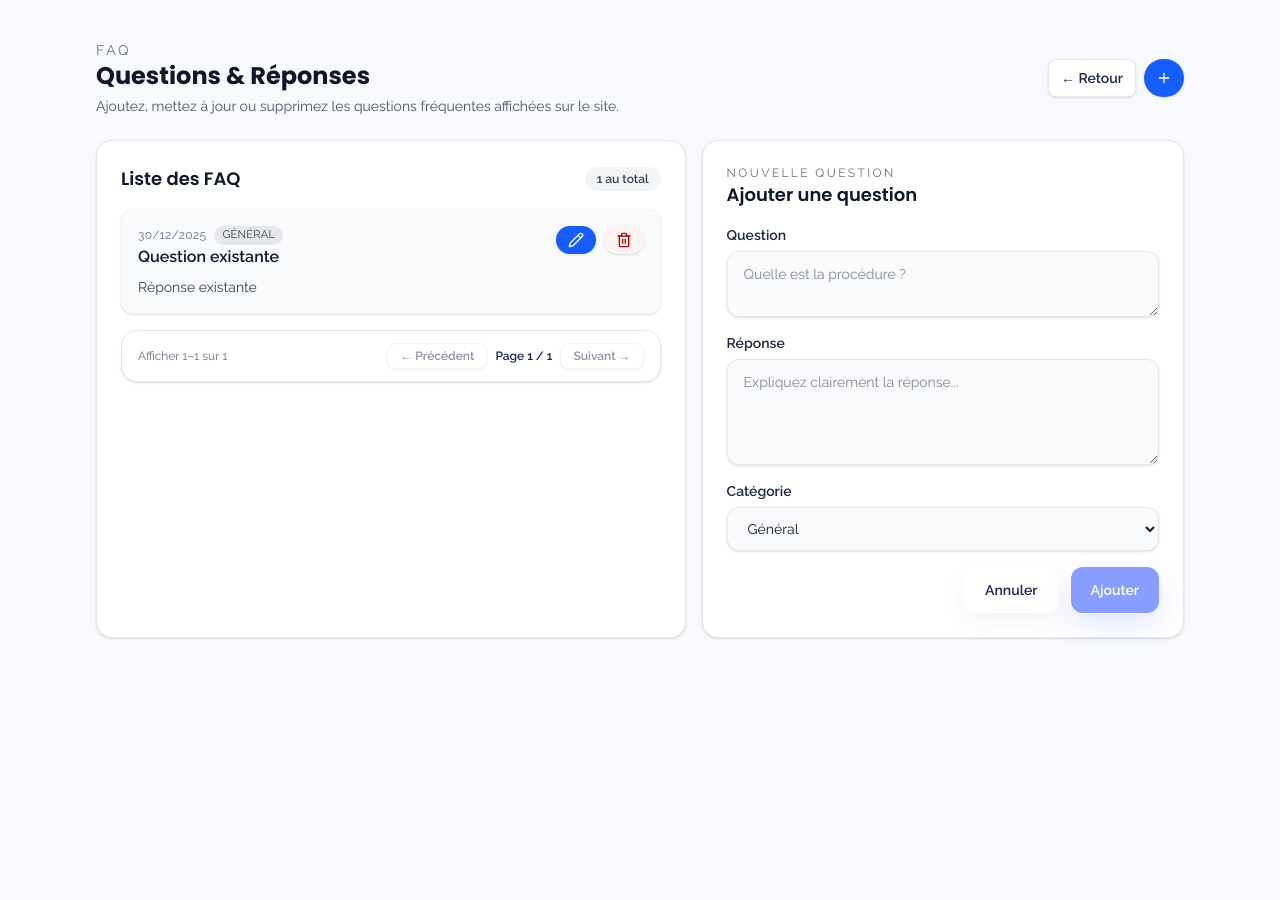
it: Dashboard FAQ client › préfille une FAQ, met à jour et gère la suppression avec confirmation
Click the button named "Modifier" at (576, 240), box [556,226,596,254]
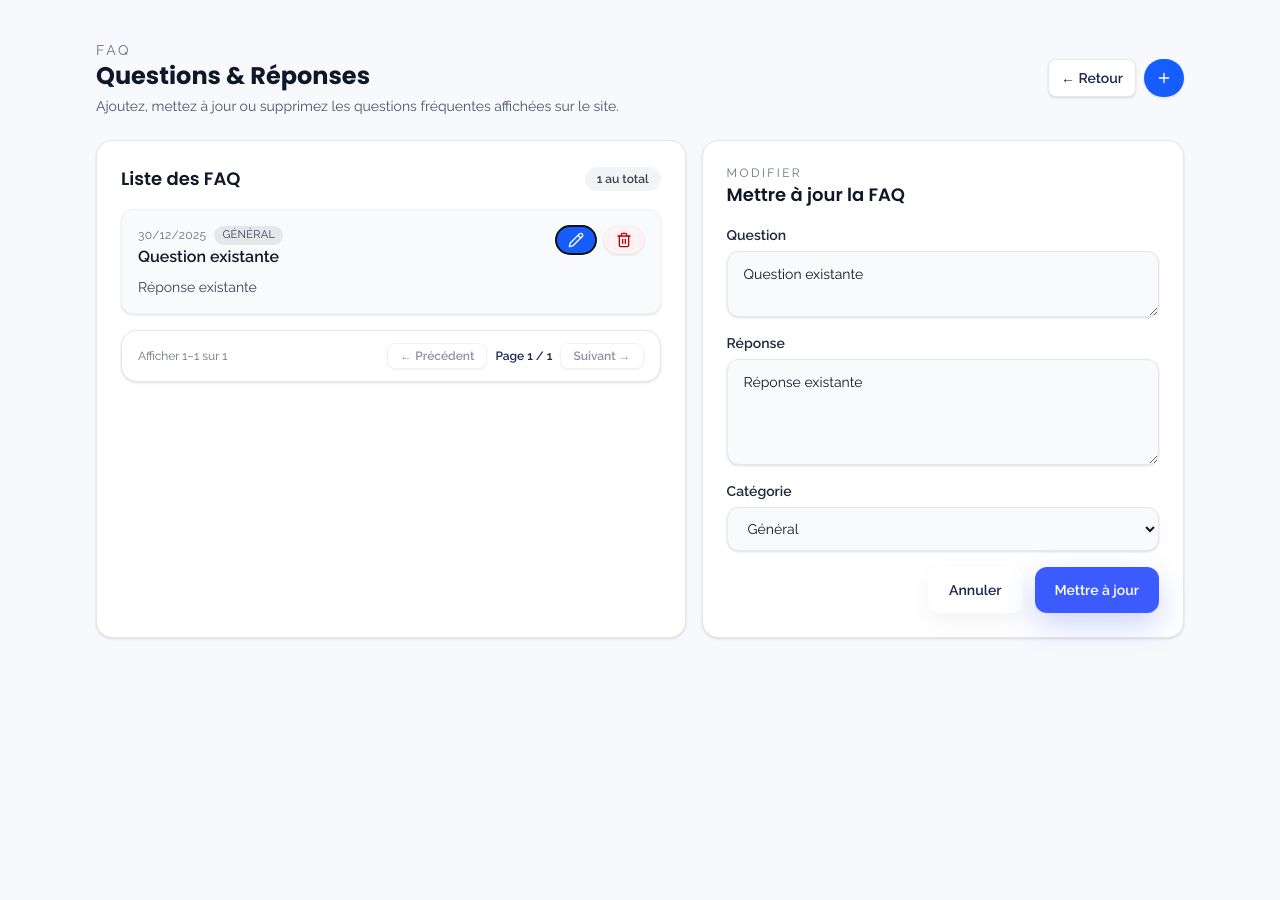
Expected: the button "Mettre à jour" is enabled
Click the button "Mettre à jour" at (1097, 590), box [1034,567,1159,613]
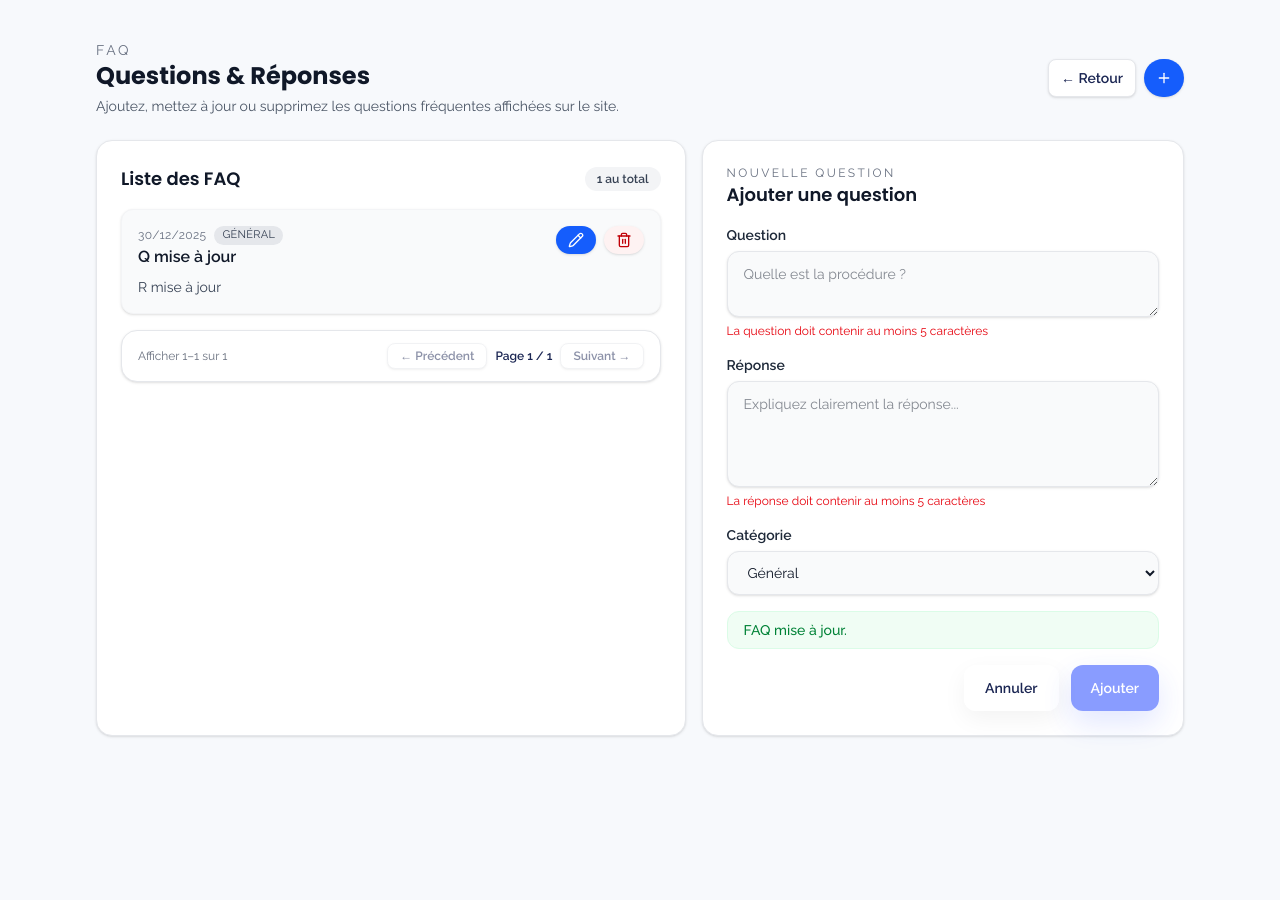
Click the button named "Supprimer" at (624, 240), box [604,226,644,254]
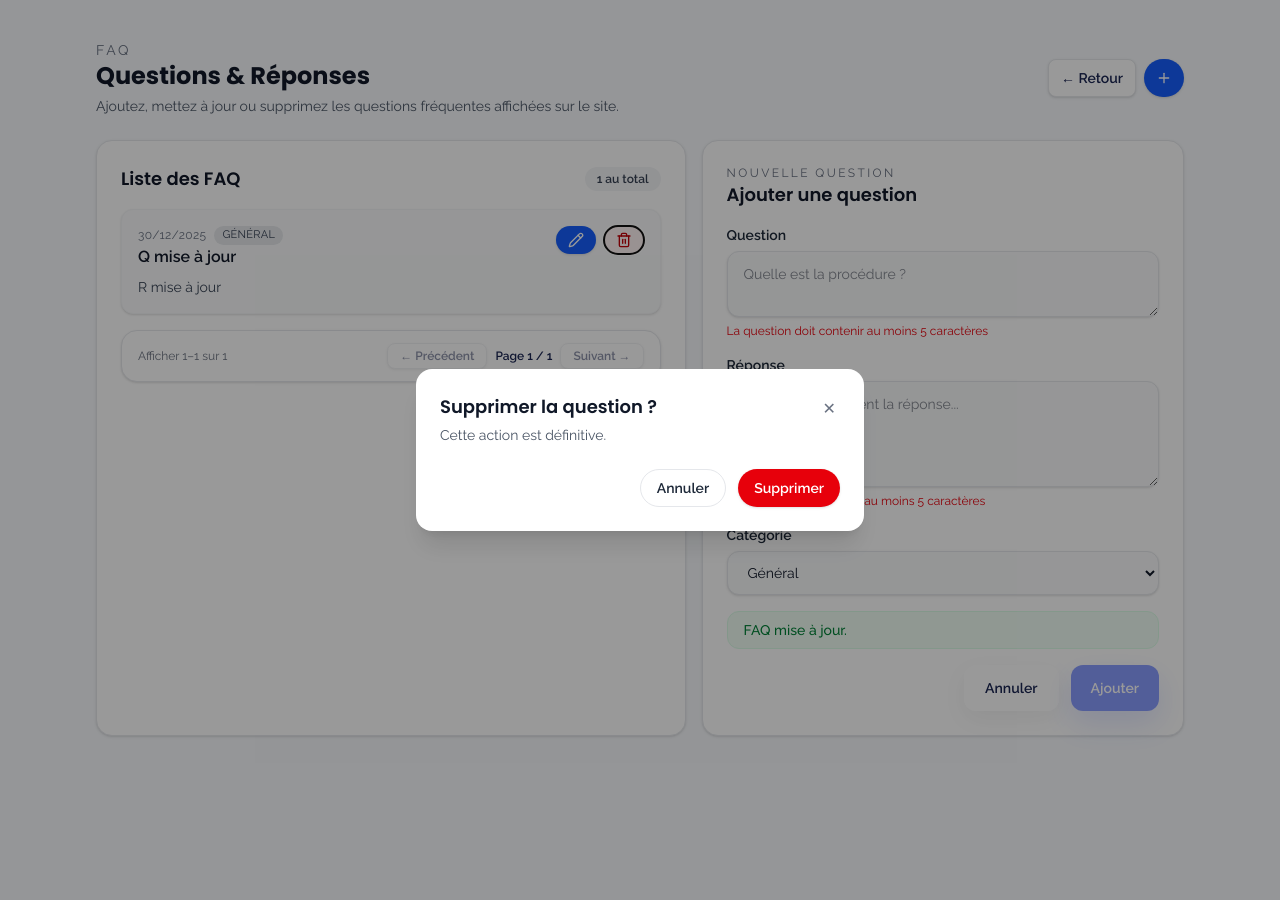
Expected: the heading "Supprimer la question ?" is shown, [440,393,657,421]
Click the button "Supprimer" at (789, 488), box [738,469,840,507]
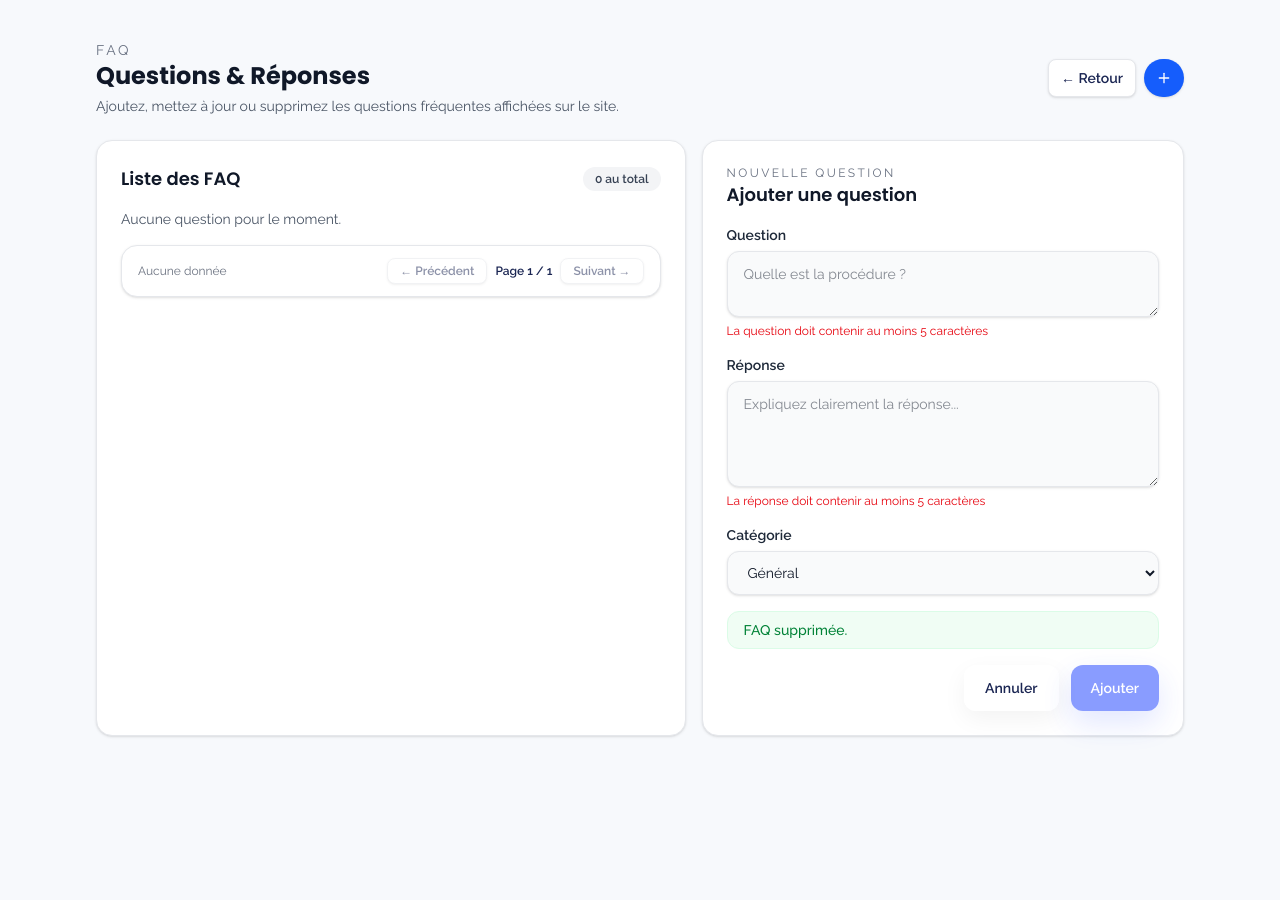
Expected: the text "FAQ supprimée." is shown, [727,611,1159,649]
